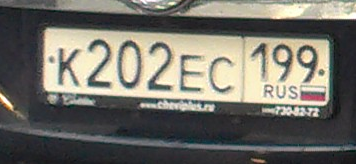character: (115, 35, 143, 90), (84, 38, 113, 90), (147, 38, 174, 91), (178, 49, 207, 93), (207, 52, 236, 94), (56, 46, 81, 90), (296, 38, 320, 83), (272, 41, 295, 83), (249, 38, 270, 83)
